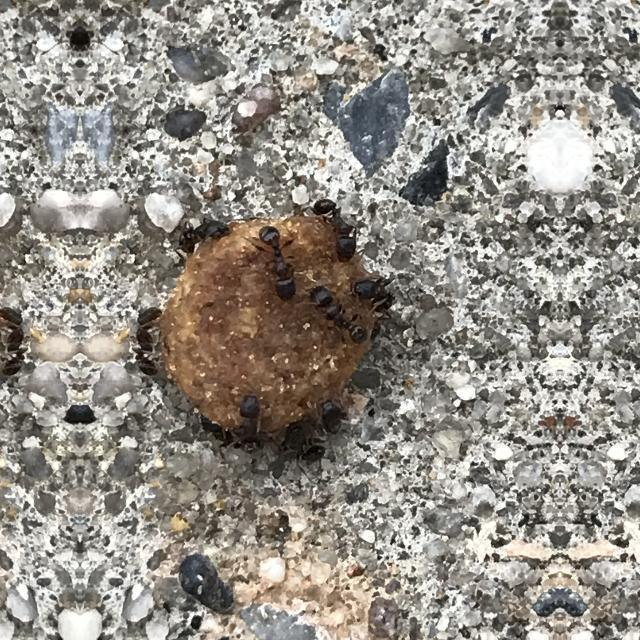Tetramorium: (300, 272, 378, 351), (248, 210, 312, 306), (302, 185, 366, 268), (127, 294, 177, 388), (225, 388, 277, 456), (0, 293, 32, 386), (356, 266, 412, 316), (179, 206, 237, 254)
